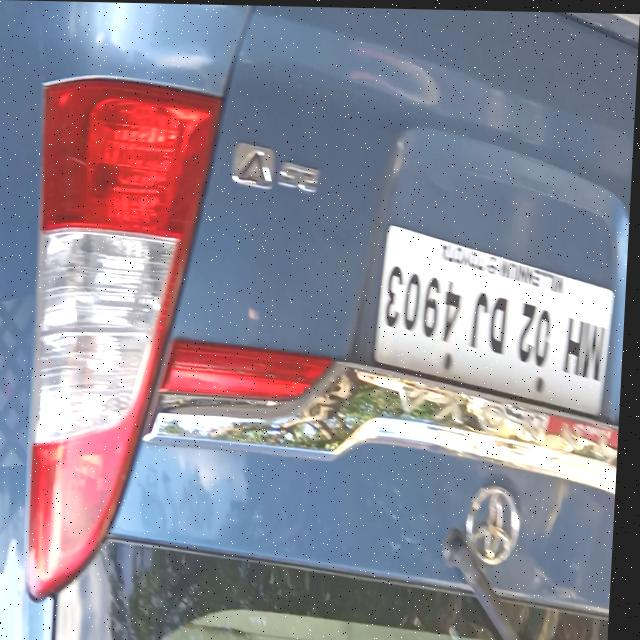plate: (373, 219, 622, 415)
